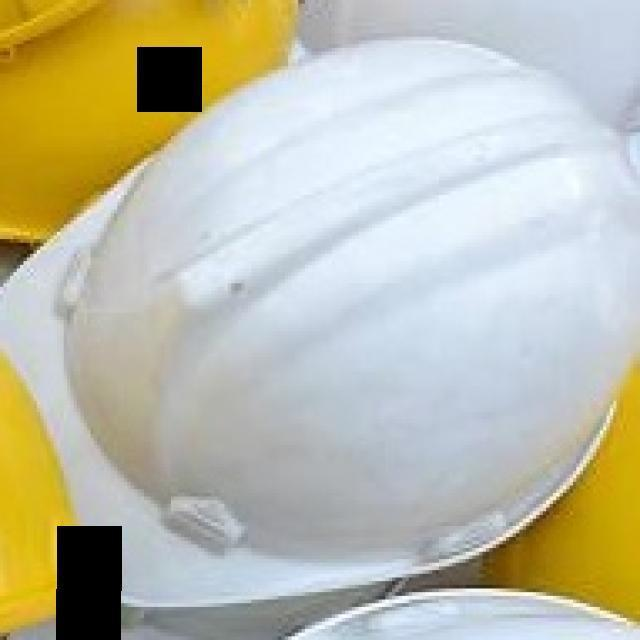white helmet: (1, 30, 640, 608)
